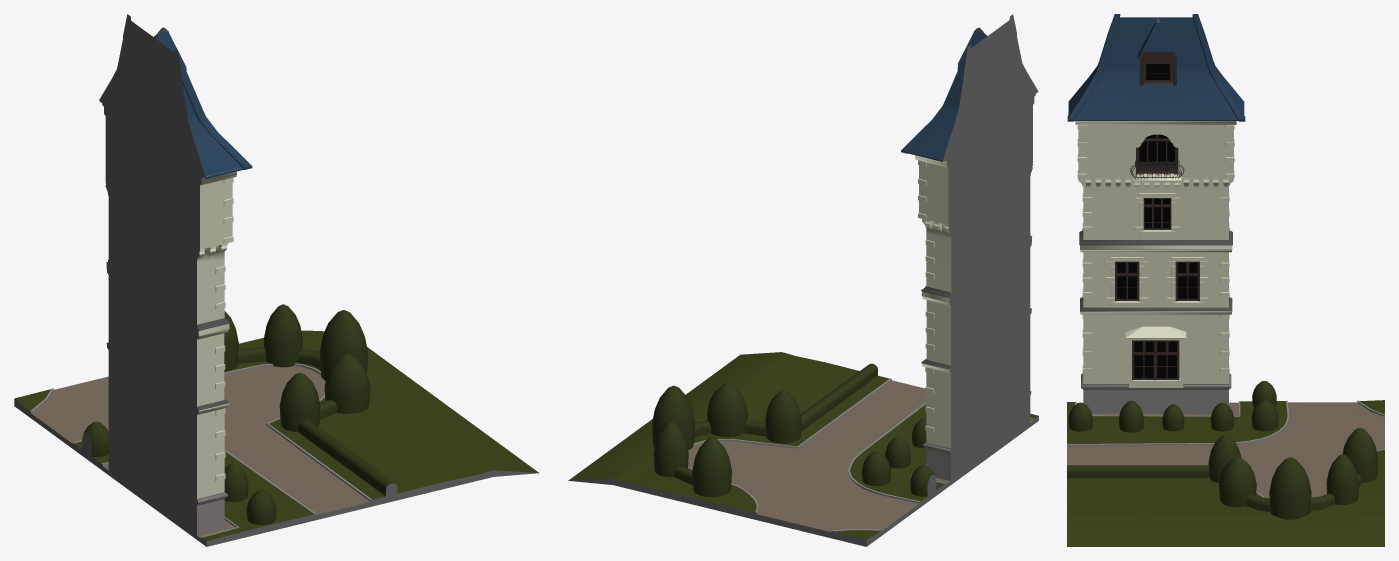
3 renders of one model, left to right at view 1: azimuth 30°, elevation 25°; view 2: azimuth 150°, elevation 25°; view 3: azimuth 270°, elevation 25°, orthographic. The views are drawn at different scales.
Visible parts, largest first — view 1: Plane.006; view 2: Plane.006; view 3: Plane.006.
Part boxes in pixels (x1=…): Plane.006: x1=14, y1=14, x2=539, y2=546; Plane.006: x1=568, y1=14, x2=1038, y2=546; Plane.006: x1=1067, y1=14, x2=1384, y2=546.
Size of the model in its own units: 4 by 5.54 by 4.
